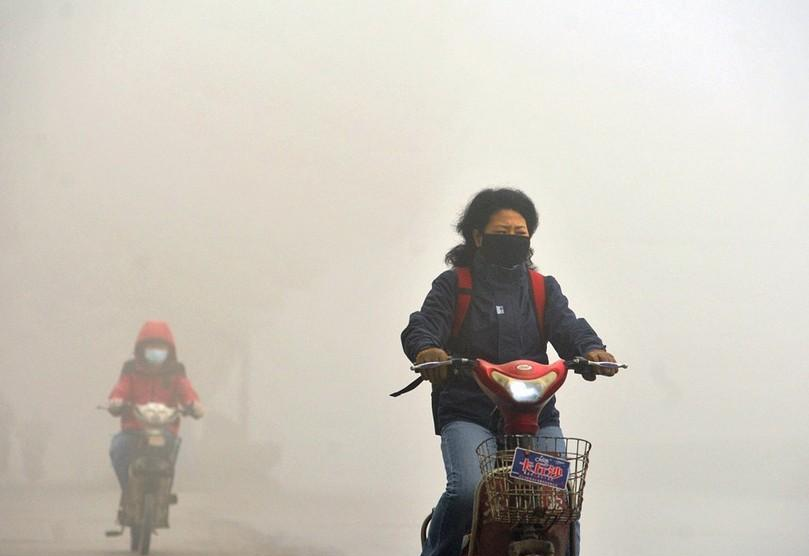motorbike: (408, 356, 629, 556), (92, 398, 205, 556)
person: (400, 185, 620, 556), (105, 318, 204, 531)
